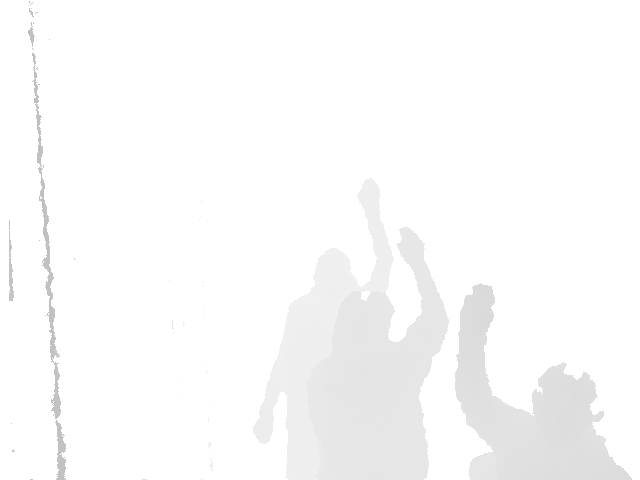hand: (453, 285, 500, 345), (392, 224, 429, 270), (359, 176, 379, 223)
head: (529, 358, 600, 426), (334, 290, 395, 345), (310, 247, 356, 301)
person: (255, 177, 389, 479), (450, 282, 629, 480), (313, 226, 450, 480)
